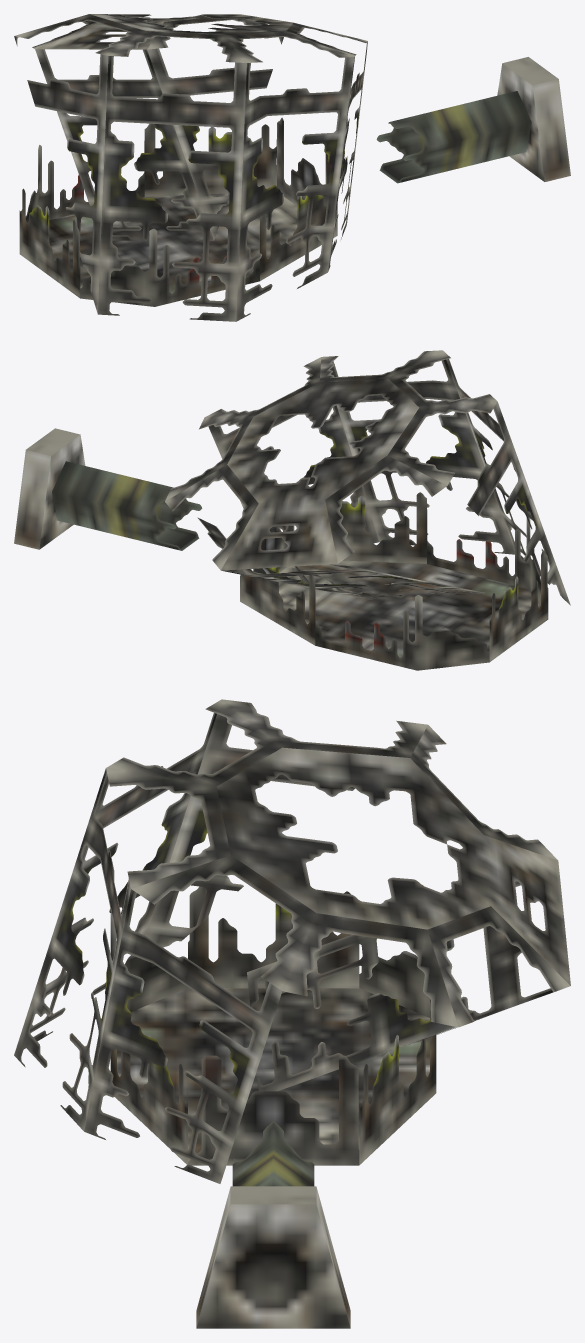
The model's file is pipetank_dam.glb.
3 renders of one model, top to bottom at view 1: azimuth 30°, elevation 25°; view 2: azimuth 150°, elevation 25°; view 3: azimuth 270°, elevation 25°, orthographic. The views are drawn at different scales.
Parts seen in each view (by area): view 1: Pipetank01; view 2: Pipetank01; view 3: Pipetank01.
Part boxes in pixels (x1=…): Pipetank01: x1=14, y1=14, x2=570, y2=321; Pipetank01: x1=14, y1=350, x2=570, y2=670; Pipetank01: x1=14, y1=699, x2=570, y2=1328.
Size of the model in its own units: 16.11 by 7.04 by 11.07.
Materials: 1 (1 with a texture image).
